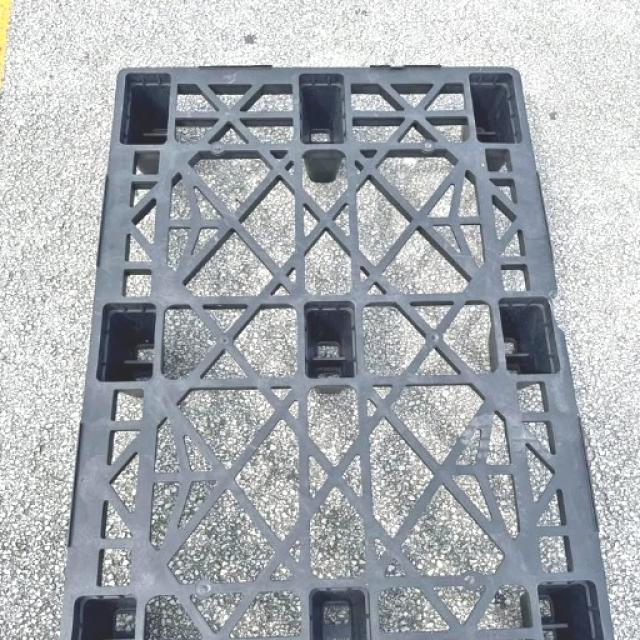non-igps: (54, 60, 619, 640)
